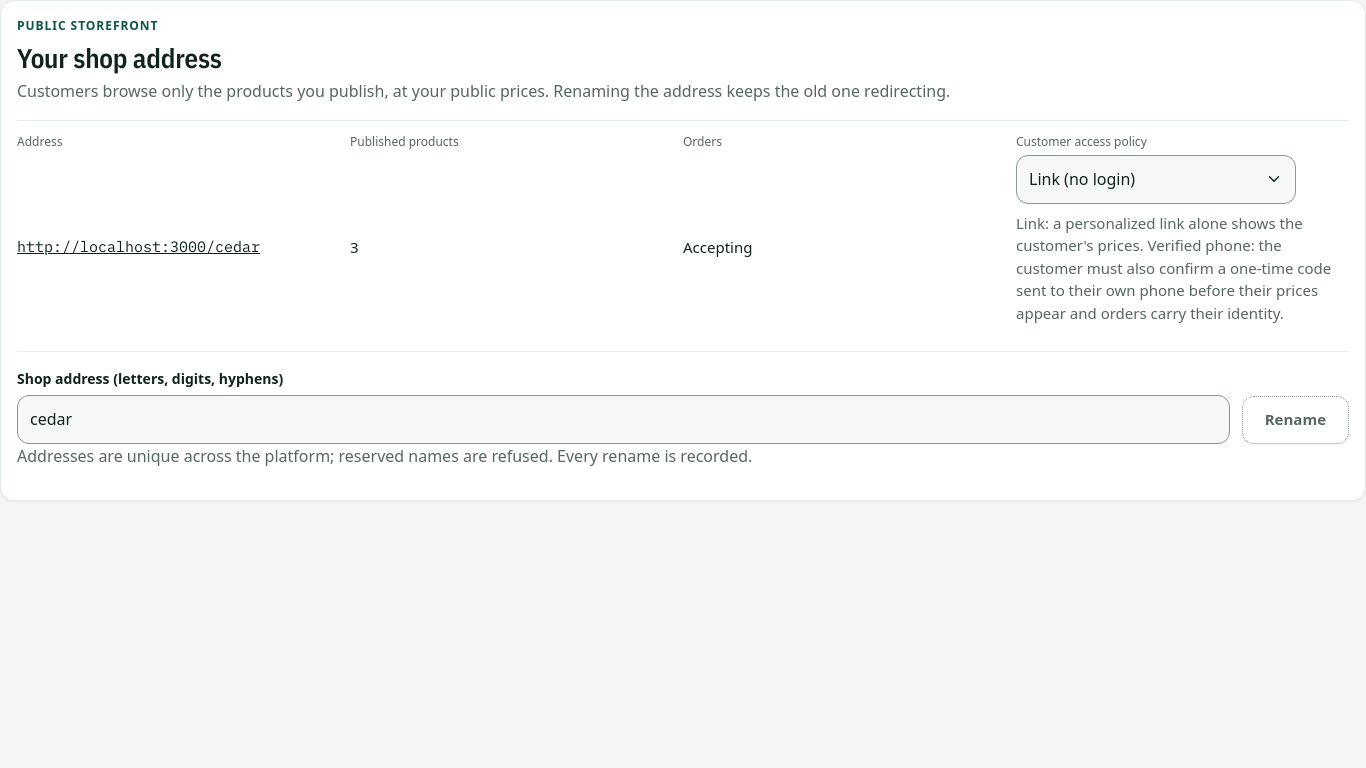
Scenario: a storefront access policy change is staged and applied only after it is confirmed
The image size is (1366, 768).
Select "Verified phone (one-time code)" in the dropdown named "Customer access policy" at coordinates (1156, 180), box [1016,155,1296,204]
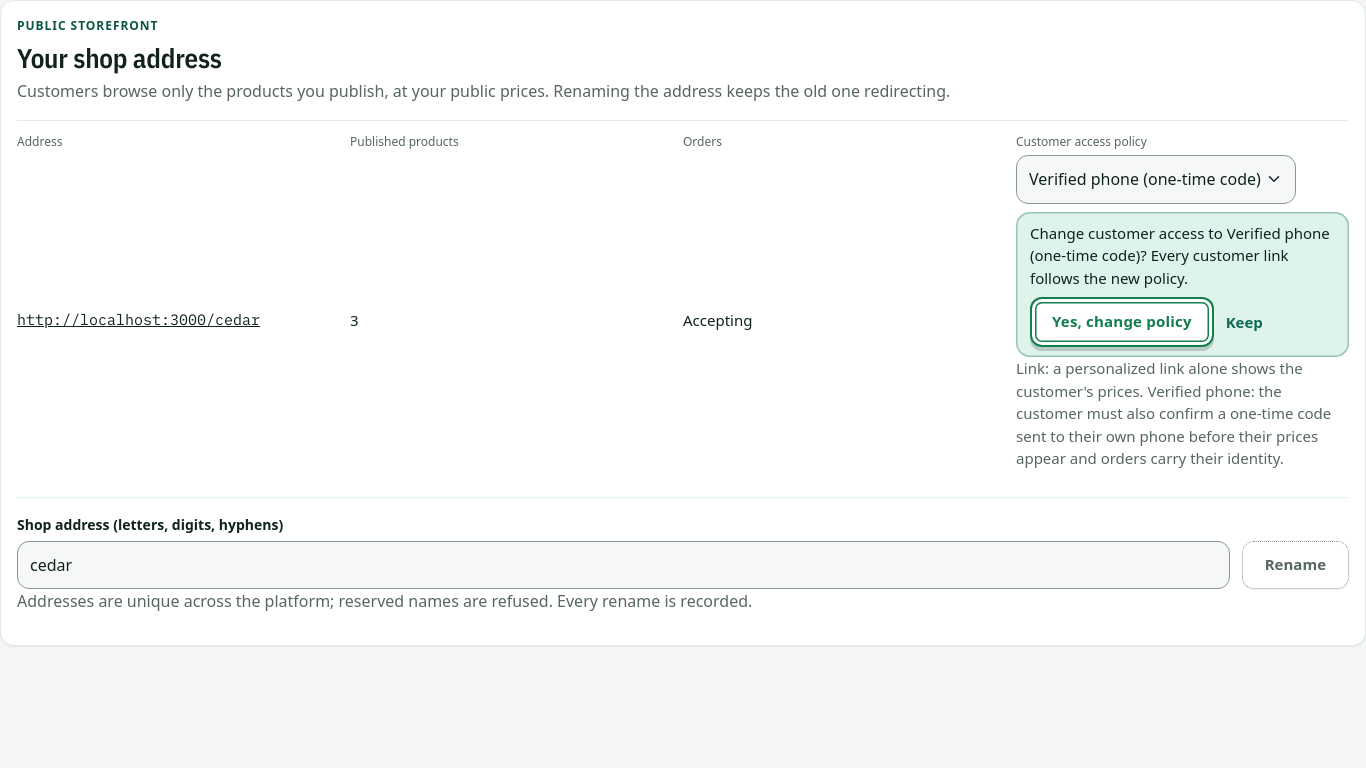
Check: the text "Change customer access to Verified phone" is shown, box [1030,223,1330,288]
Click the button "Keep" at coordinates (1244, 322), box [1226,300,1263,344]
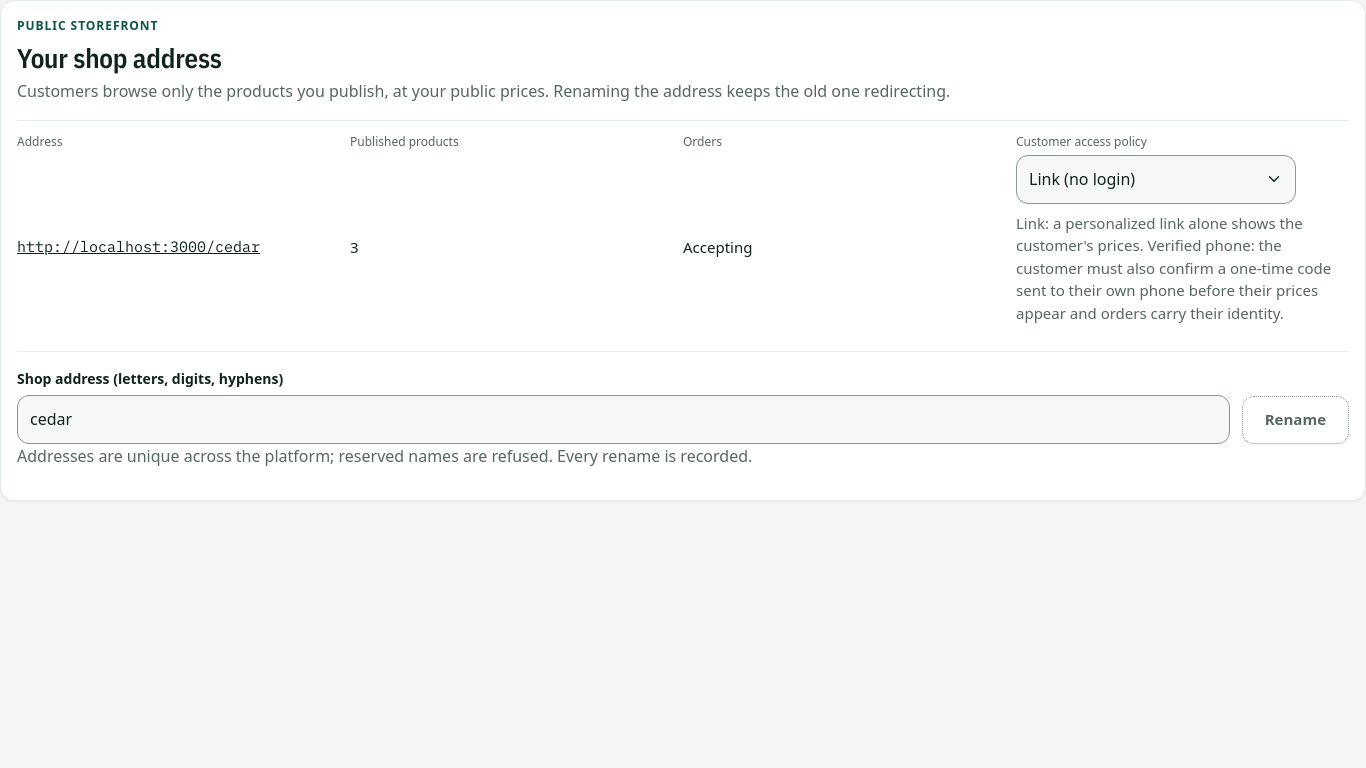
Select "Verified phone (one-time code)" in the dropdown named "Customer access policy" at coordinates (1156, 180), box [1016,155,1296,204]
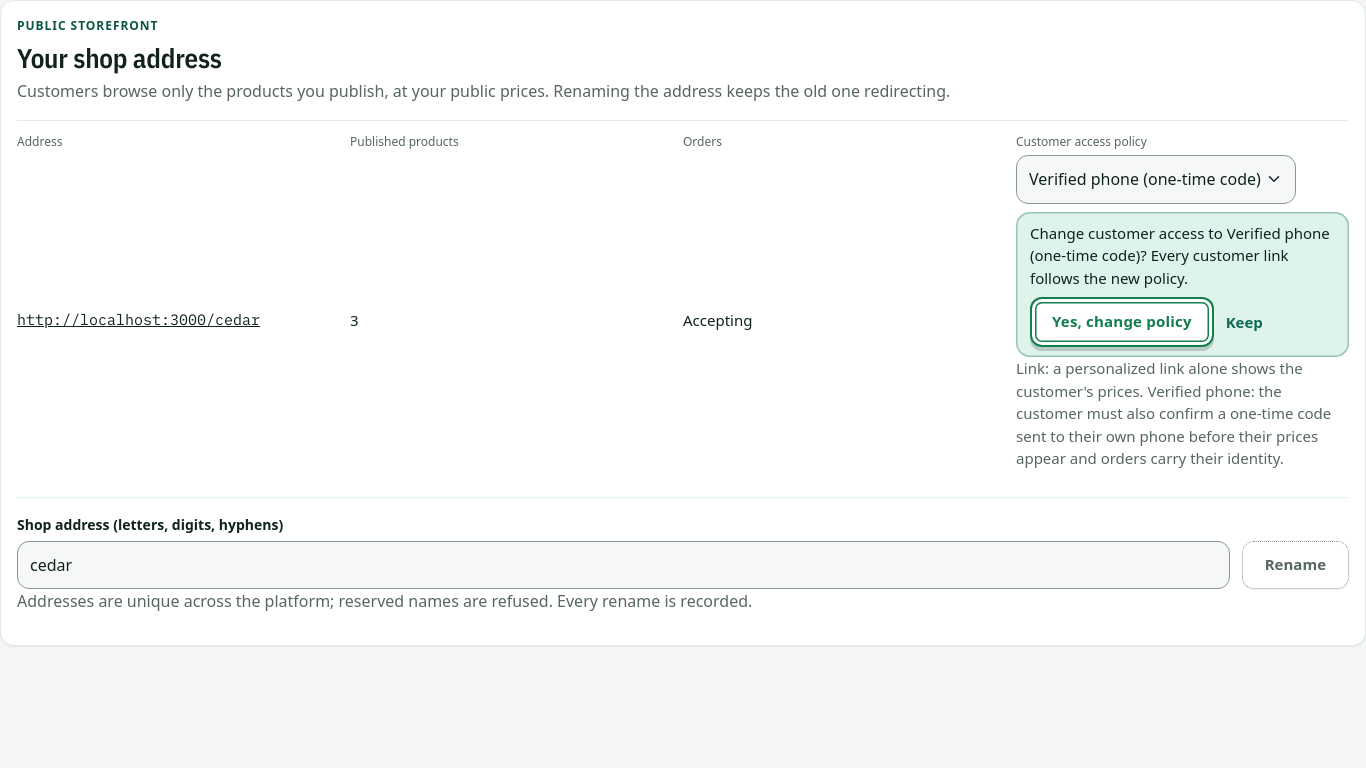
Click the button "Yes, change policy" at coordinates (1122, 322), box [1030,297,1214,347]
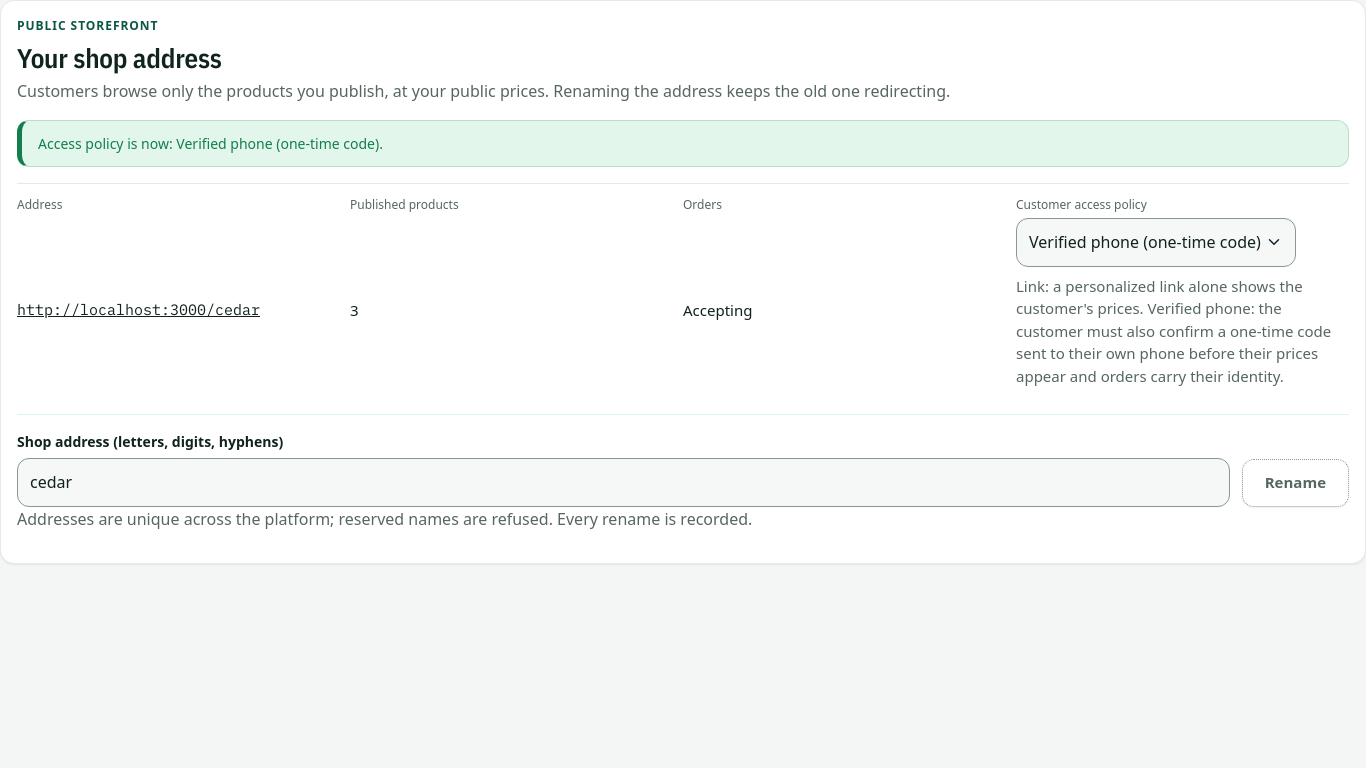
Check: the text "Access policy is now: Verified phone (one-time code)." is shown, box [17,120,1349,167]
